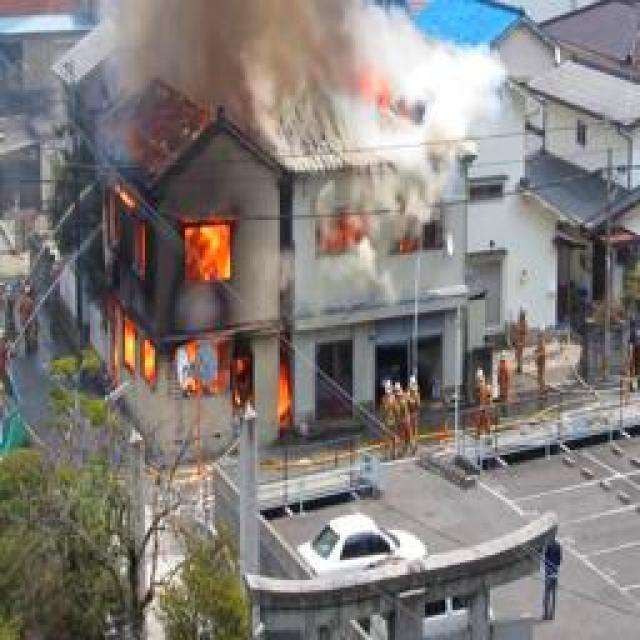Fire: (78, 181, 301, 434)
